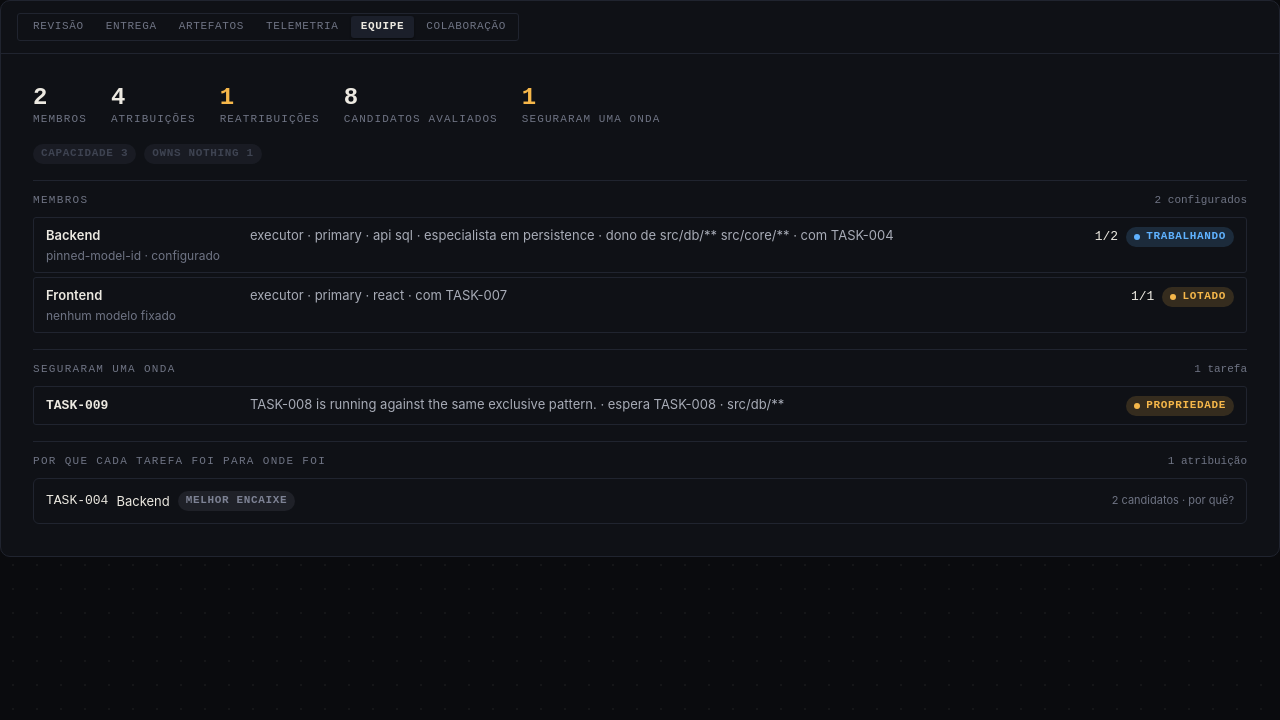
who did the work › answers "why not the other one" with the ranking the run recorded (§38, I-34)
Expected: the text "0.82" is not shown
Click the button "TASK-004 Backend melhor encaixe 2 candidatos · por quê?": {"x": 77, "y": 500} [34,479,1246,523]
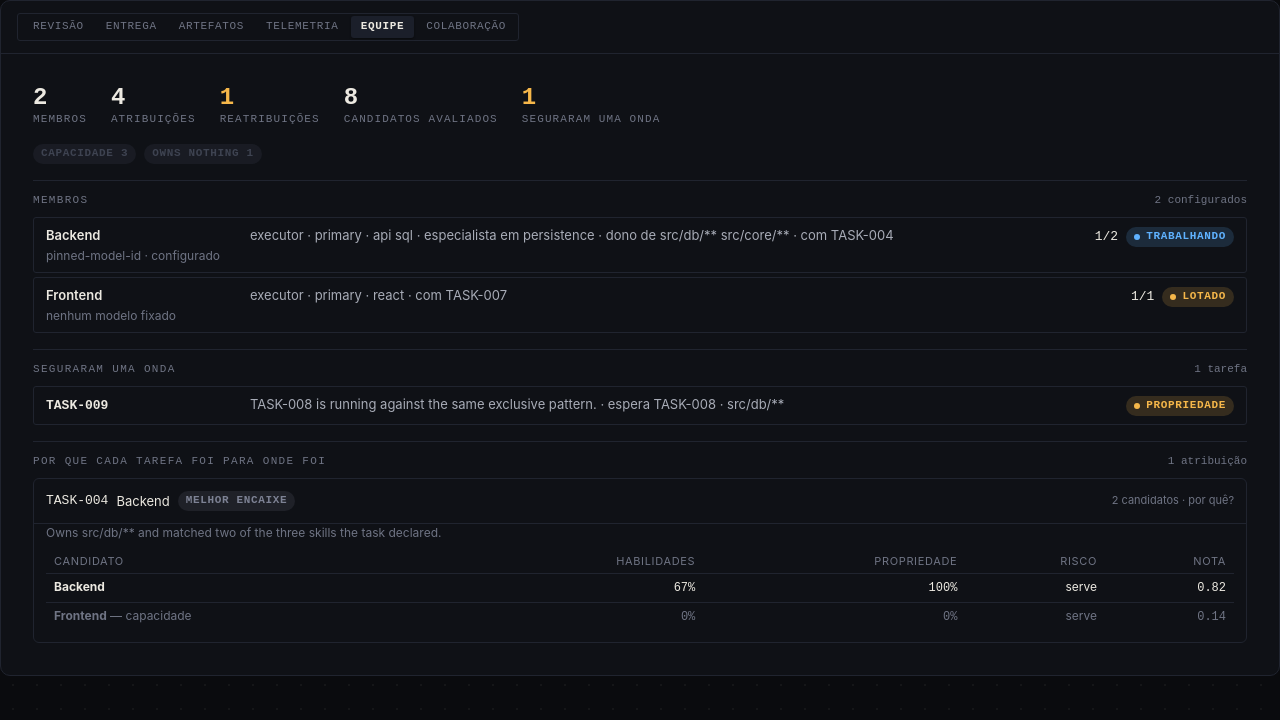
Expected: the text "0.82" is shown, [1105,574,1234,602]
Expected: the text "0.14" is shown, [1105,602,1234,630]
Expected: the text "Owns src/db/** and matched two" is shown, [46,525,441,540]
